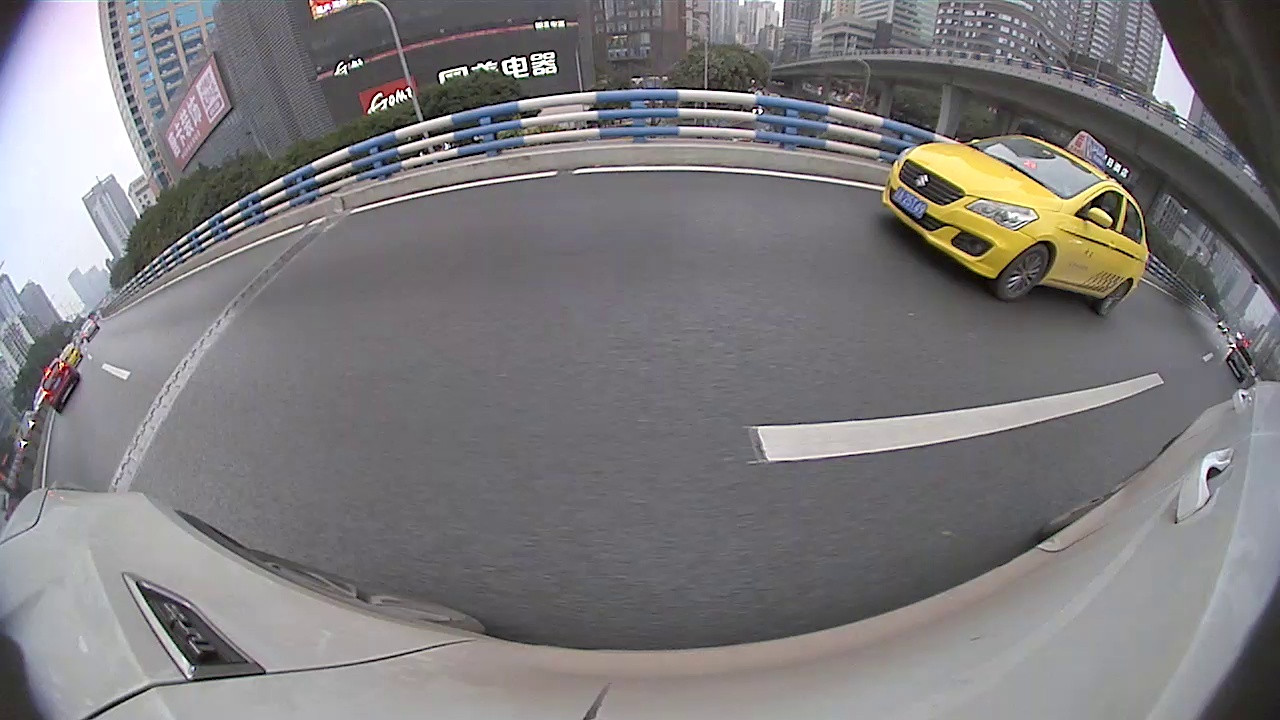car: (881, 130, 1151, 316), (40, 358, 83, 415)
front: (994, 244, 1052, 301)
rear: (1095, 283, 1132, 313)
